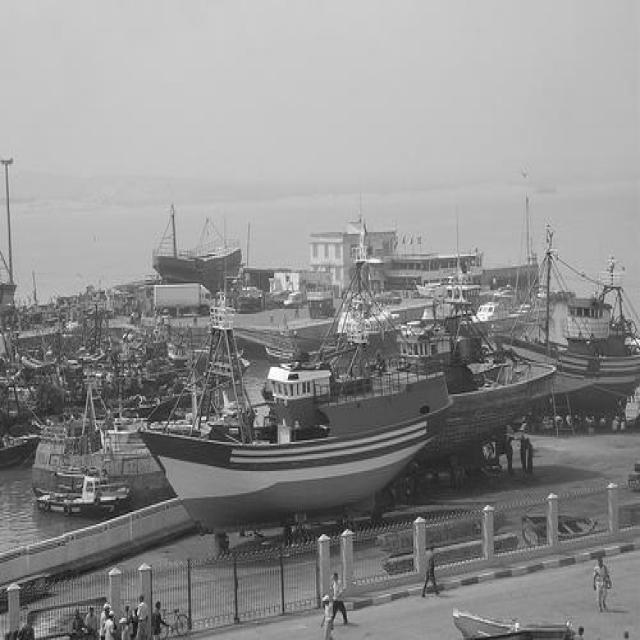vehicle: (284, 290, 308, 308), (375, 290, 401, 306)
